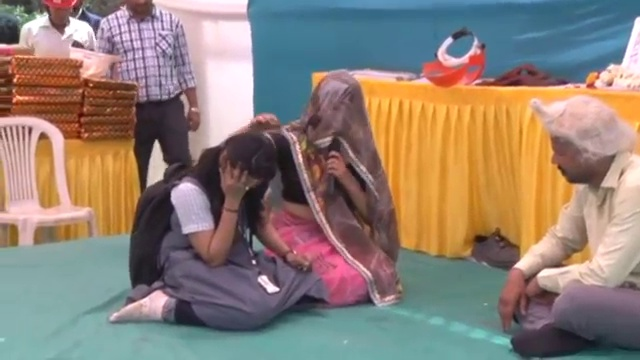helmet: (68, 45, 125, 80)
helmet_off: (539, 109, 624, 196), (207, 125, 278, 195), (306, 75, 368, 151), (41, 0, 77, 28), (120, 0, 155, 18)
person: (119, 114, 327, 312), (507, 103, 640, 354), (259, 77, 405, 293), (85, 0, 200, 178), (16, 0, 96, 58)
